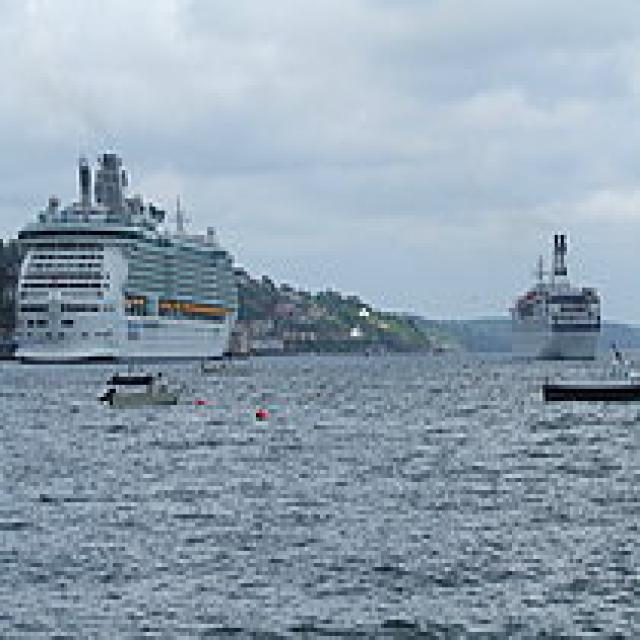Cruise: (6, 142, 238, 360), (506, 227, 600, 356)
